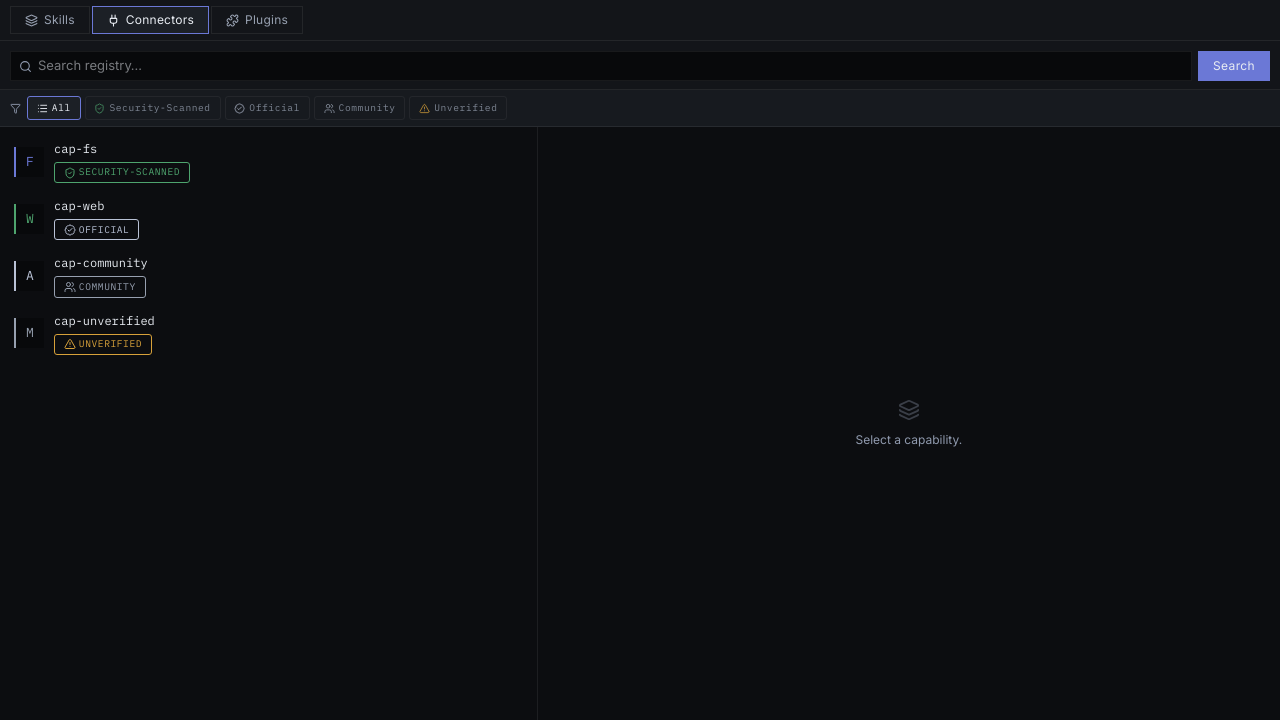
Test: Registry › searches and shows candidates on submit
Expected: the text "cap-fs" is shown, [54,141,97,156]
Step 1. Type "result" into the field with placeholder "Search registry…" → [610, 66], box [38,56,1183,76]
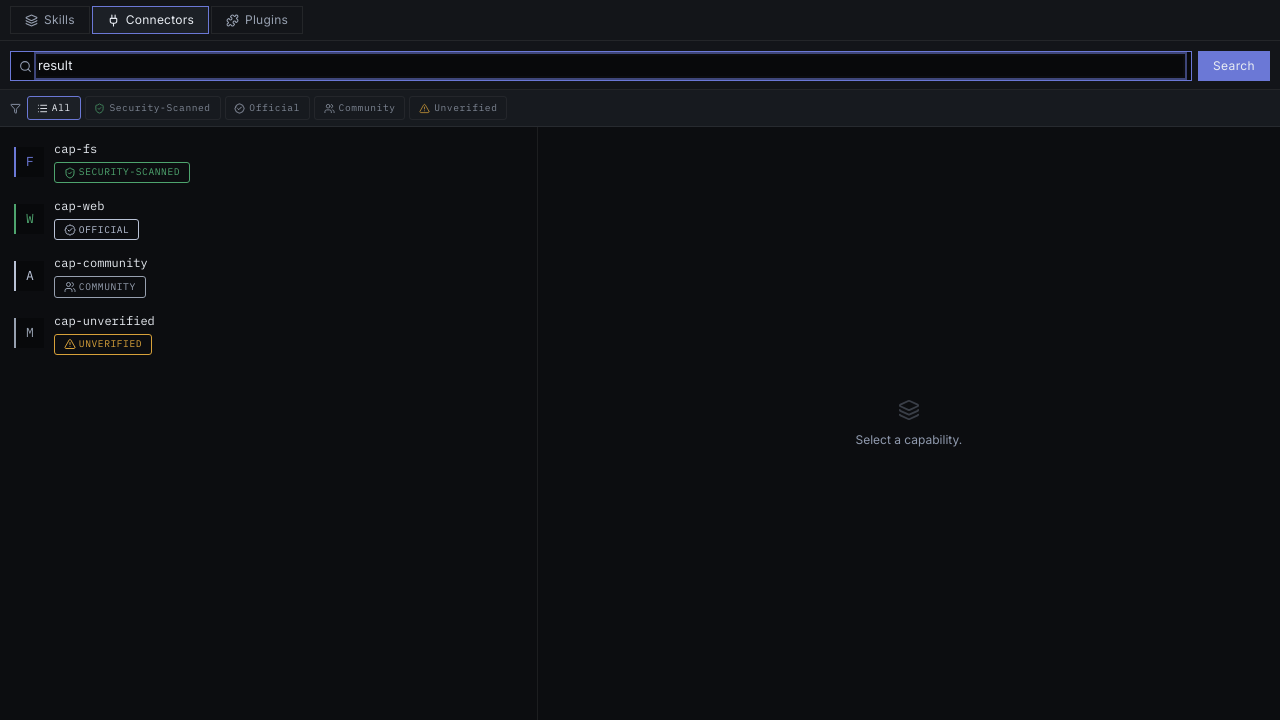
Step 2. Press Enter
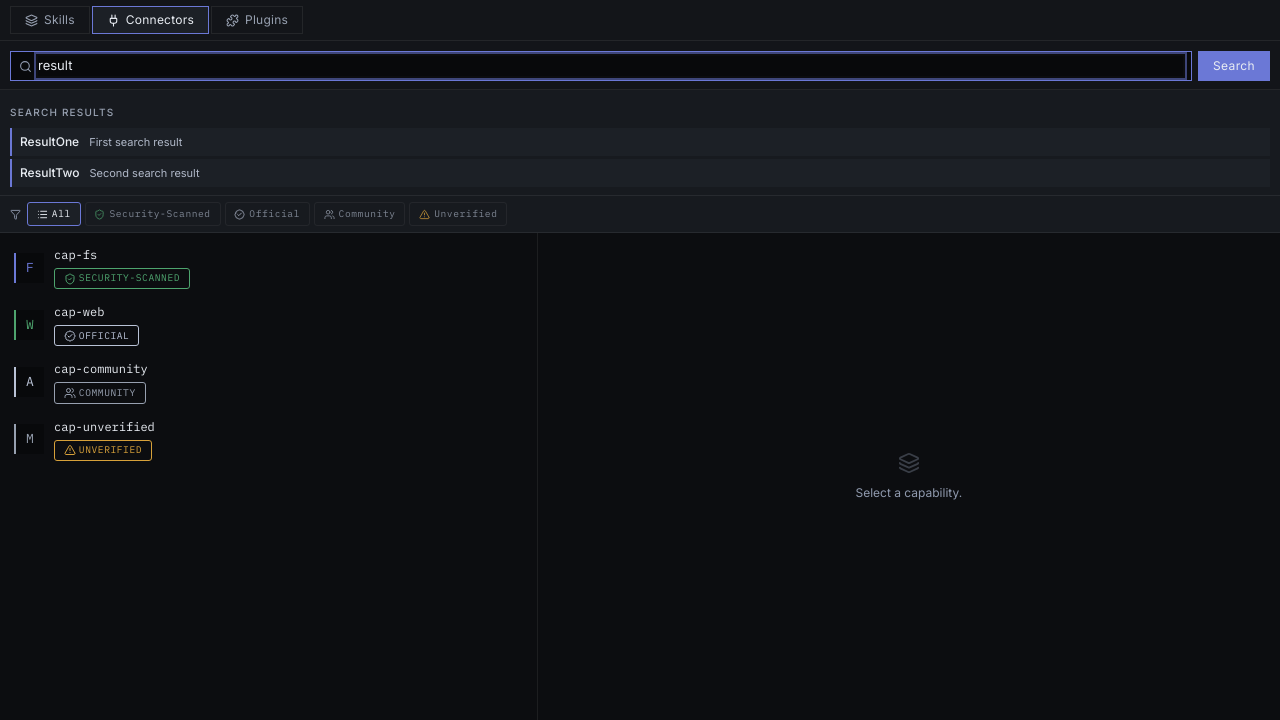
Expected: the text "ResultOne" is shown, [20,133,79,151]
Expected: the text "ResultTwo" is shown, [20,164,79,182]
